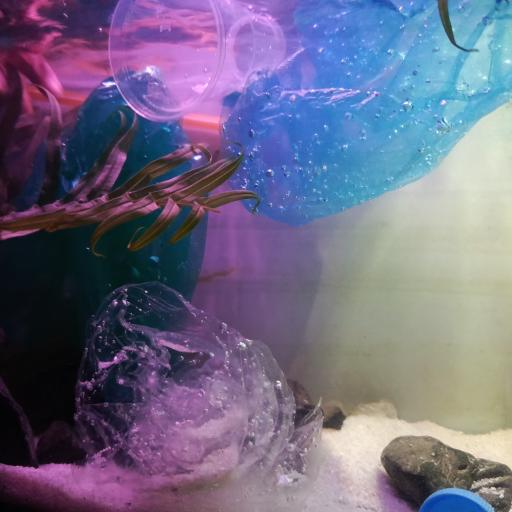bottle_cap: (420, 487, 494, 512)
plastic_bag: (1, 64, 207, 388), (223, 0, 512, 227), (73, 282, 327, 499)
plastic_cup: (108, 0, 288, 124)
plastic_straw: (29, 83, 218, 137)
